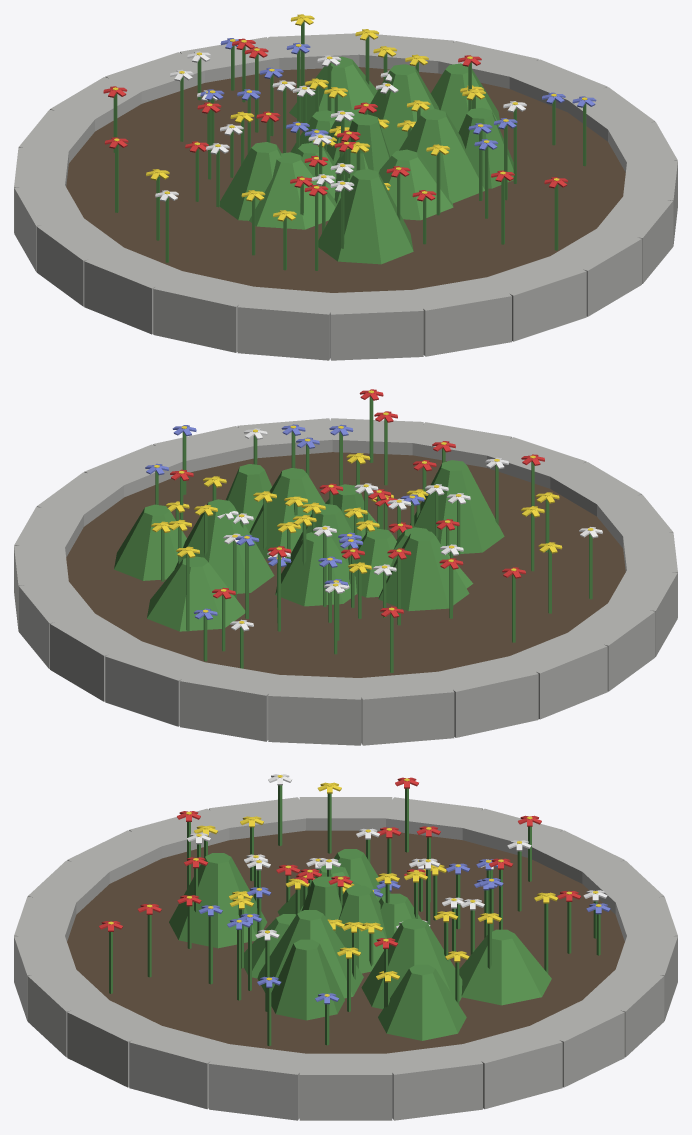
Rendered from SM_FlowerBed.fbx.
The picture shows the model from 3 angles, top to bottom: view 1: azimuth 30°, elevation 25°; view 2: azimuth 150°, elevation 25°; view 3: azimuth 270°, elevation 25°; orthographic projection.
Visible parts, largest first — view 1: SM_FlowerBed; view 2: SM_FlowerBed; view 3: SM_FlowerBed.
Boxes of the visible parts, x1,y1,x2,y2 form: SM_FlowerBed: (14, 14, 677, 360); SM_FlowerBed: (14, 389, 677, 745); SM_FlowerBed: (14, 774, 677, 1120).
Size of the model in its own units: 3.94 by 3.9 by 0.7615.
